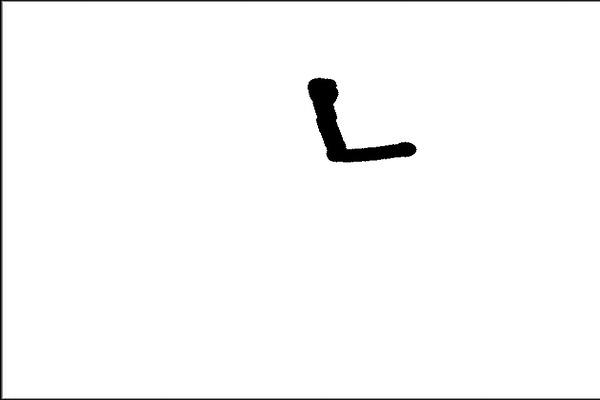L: (299, 69, 424, 168)
